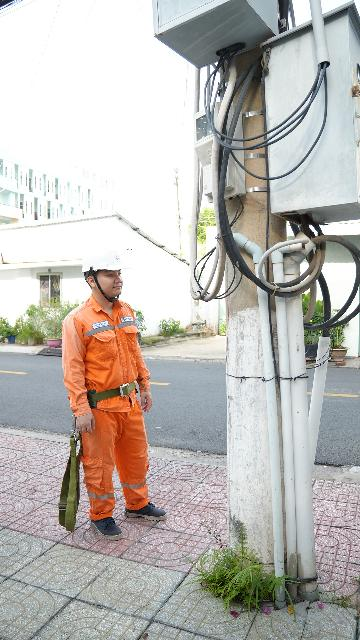harness: (78, 377, 146, 406)
helmet: (79, 243, 126, 274)
shoes: (118, 492, 172, 526), (84, 507, 129, 540)
